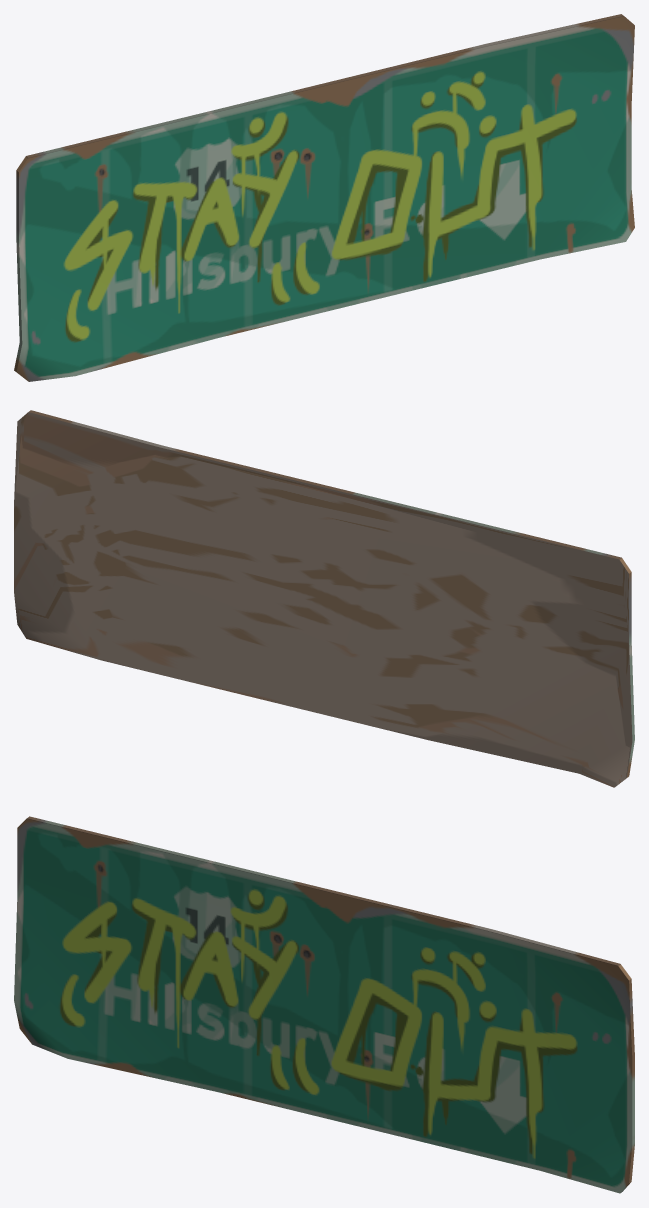
The model's file is SM_Prop_Sign_Custom_13.fbx.
The picture shows the model from 3 angles, top to bottom: view 1: azimuth 30°, elevation 25°; view 2: azimuth 150°, elevation 25°; view 3: azimuth 330°, elevation 25°; orthographic projection.
Visible parts, largest first — view 1: SM_Prop_Sign_Custom_13; view 2: SM_Prop_Sign_Custom_13; view 3: SM_Prop_Sign_Custom_13.
Part boxes in pixels (x1,y1,x2,y2): SM_Prop_Sign_Custom_13: (14,14,634,381); SM_Prop_Sign_Custom_13: (14,410,634,787); SM_Prop_Sign_Custom_13: (14,816,634,1193).
Size of the model in its own units: 397 by 140 by 9.28.
